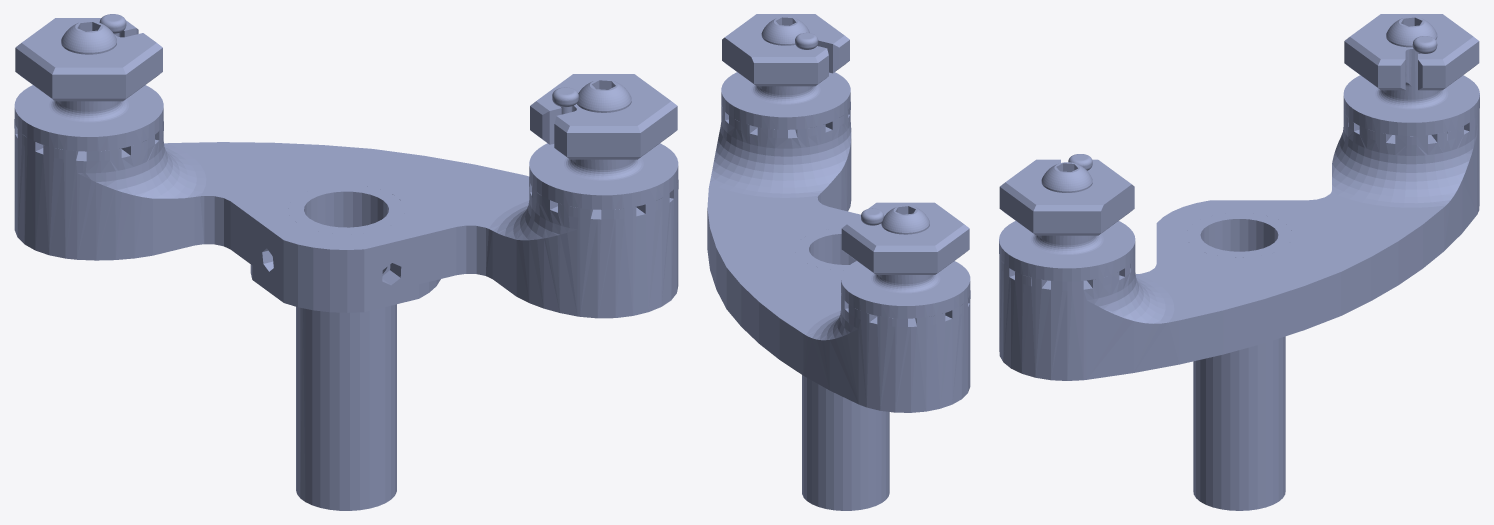
The model's file is transmission_arm.dae.
3 views of the same model, side by side, from view 1: azimuth 30°, elevation 25°; view 2: azimuth 150°, elevation 25°; view 3: azimuth 270°, elevation 25° (orthographic). The views are drawn at different scales.
Parts seen in each view (by area): view 1: Transmission_Arm; view 2: Transmission_Arm; view 3: Transmission_Arm.
Part boxes in pixels (box(x1,y1,x2,y2)): Transmission_Arm: box(14, 14, 678, 510); Transmission_Arm: box(707, 14, 970, 510); Transmission_Arm: box(999, 14, 1479, 510).
Bounding box in the file's own units: 0.0988 × 0.0987 × 0.0898.
